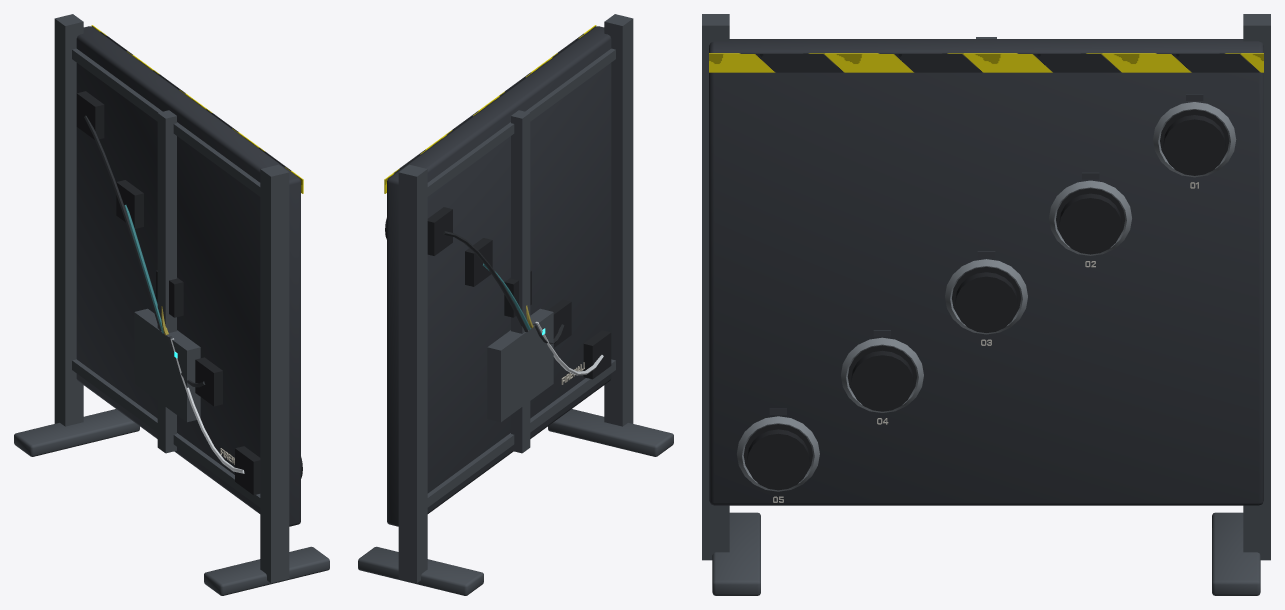
File: sensor_stand.glb
3 views of the same model, side by side, from view 1: azimuth 30°, elevation 25°; view 2: azimuth 150°, elevation 25°; view 3: azimuth 270°, elevation 25° (orthographic). The views are drawn at different scales.
Parts seen in each view (by area): view 1: Body; view 2: Body; view 3: Body, Sensor2, Sensor3, Sensor4, Sensor1, Sensor0.
Boxes of the visible parts, x1=… form: Body: x1=14, y1=14, x2=329, y2=595; Body: x1=358, y1=14, x2=673, y2=595; Body: x1=702, y1=14, x2=1270, y2=595; Sensor2: x1=955, y1=272, x2=1017, y2=332; Sensor3: x1=851, y1=350, x2=913, y2=411; Sensor4: x1=747, y1=429, x2=809, y2=490; Sensor1: x1=1059, y1=193, x2=1121, y2=254; Sensor0: x1=1163, y1=115, x2=1225, y2=175.
Bounding box in the file's own units: 0.48 × 1.73 × 1.64.
12 materials, 1 textured.
